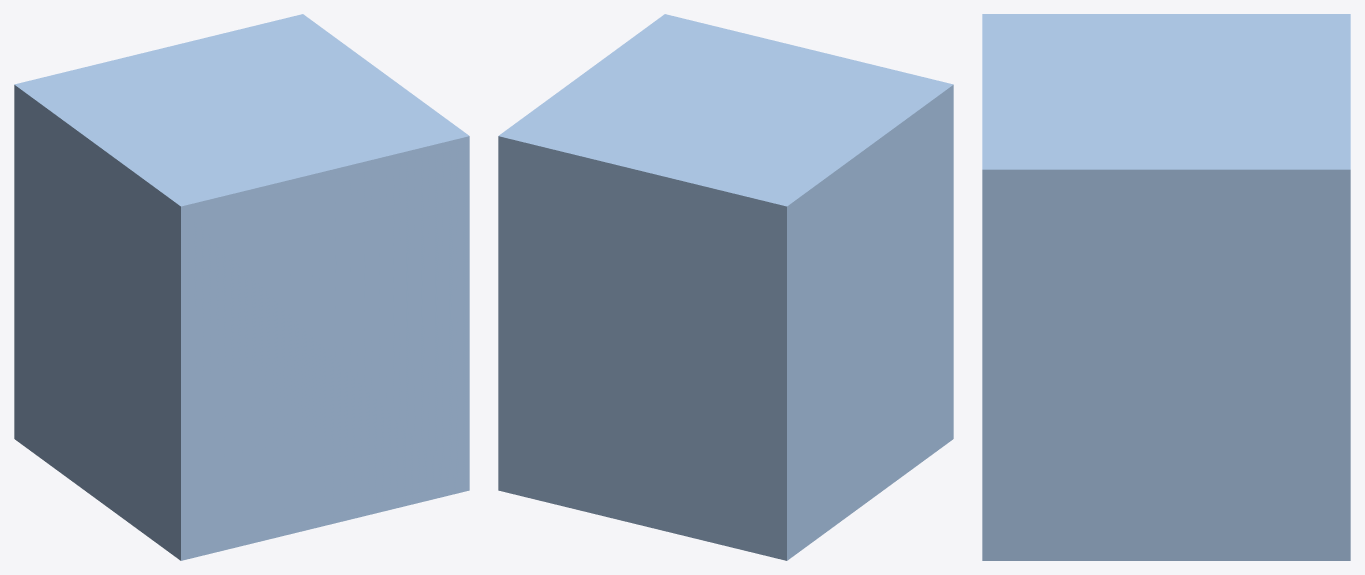
File: patinador_manga_sup.glb
The picture shows the model from 3 angles, left to right: view 1: azimuth 30°, elevation 25°; view 2: azimuth 150°, elevation 25°; view 3: azimuth 270°, elevation 25°; orthographic projection. The views are drawn at different scales.
Parts seen in each view (by area): view 1: patinador_manga_sup; view 2: patinador_manga_sup; view 3: patinador_manga_sup.
Part boxes in pixels (x1,y1,x2,y2): patinador_manga_sup: (14,14,469,560); patinador_manga_sup: (498,14,953,560); patinador_manga_sup: (982,14,1350,560).
Bounding box in the file's own units: 0.29 × 0.34 × 0.29.
